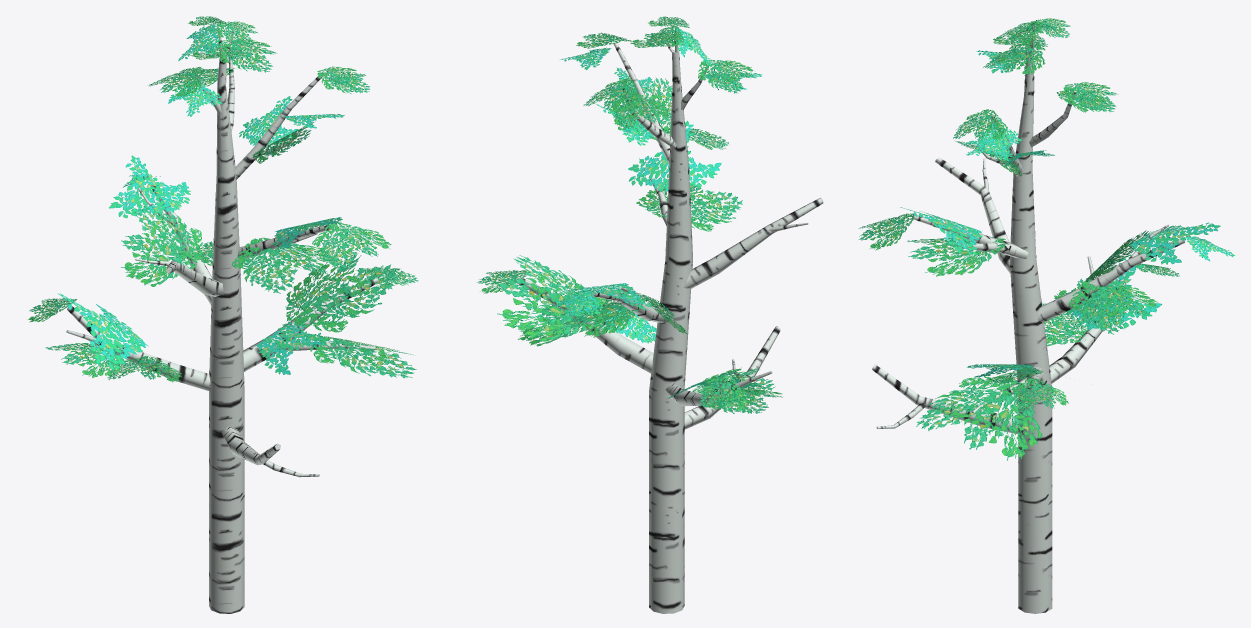
The model's file is EN_BirchTree_01.fbx.
3 renders of one model, left to right at view 1: azimuth 30°, elevation 25°; view 2: azimuth 150°, elevation 25°; view 3: azimuth 270°, elevation 25°, orthographic.
Parts seen in each view (by area): view 1: EN_BirchTree_01; view 2: EN_BirchTree_01; view 3: EN_BirchTree_01.
Boxes of the visible parts, bbox=[...] form: EN_BirchTree_01: bbox=[28, 16, 418, 613]; EN_BirchTree_01: bbox=[477, 16, 823, 613]; EN_BirchTree_01: bbox=[858, 18, 1234, 613].
Size of the model in its own units: 665 by 1079 by 647.
